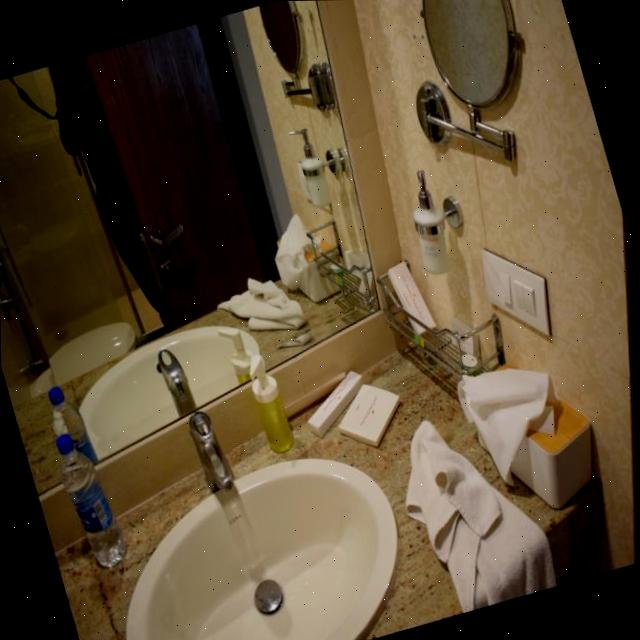mess: (380, 254, 484, 381), (458, 368, 557, 492), (302, 361, 393, 454)
messy_sink: (100, 183, 617, 640)
